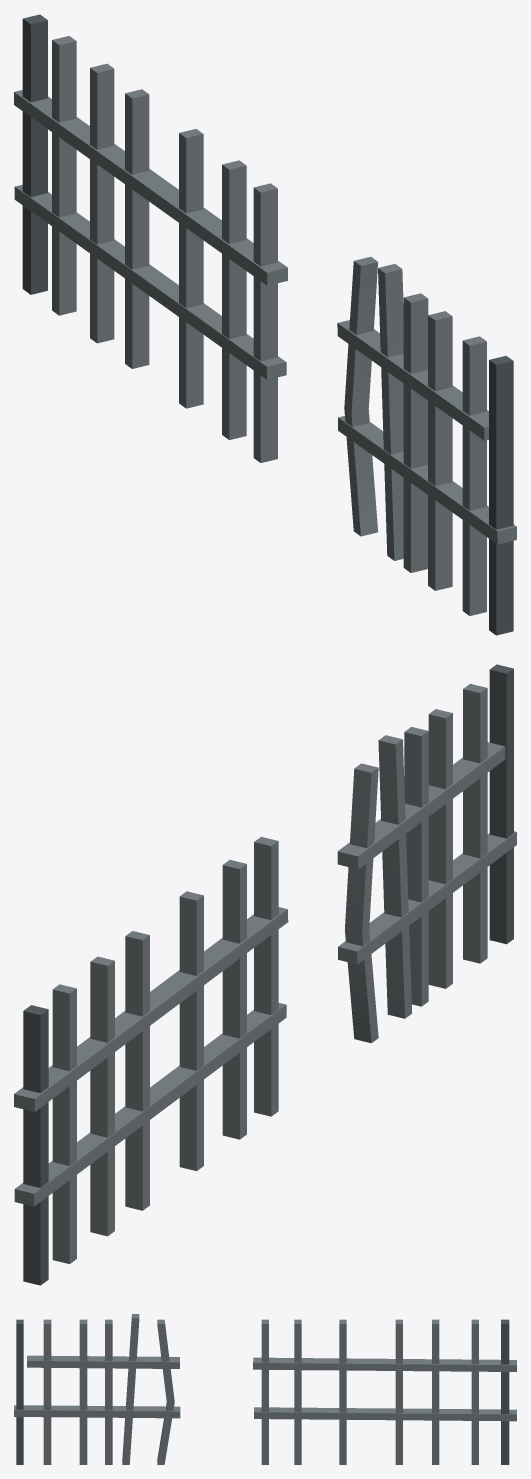
Rendered from Jail_Cell_Long_Type3.fbx.
3 views of the same model, one above another, from view 1: azimuth 30°, elevation 25°; view 2: azimuth 150°, elevation 25°; view 3: azimuth 270°, elevation 25° (orthographic). The views are drawn at different scales.
Parts seen in each view (by area): view 1: Jail_Cell_Long_Type3; view 2: Jail_Cell_Long_Type3; view 3: Jail_Cell_Long_Type3.
Boxes of the visible parts, left/top/right/bottom form: Jail_Cell_Long_Type3: left=14, top=14, right=516, bottom=635; Jail_Cell_Long_Type3: left=14, top=664, right=516, bottom=1285; Jail_Cell_Long_Type3: left=14, top=1314, right=516, bottom=1464.
Bounding box in the file's own units: 0.3674 × 4.73 × 14.72.
